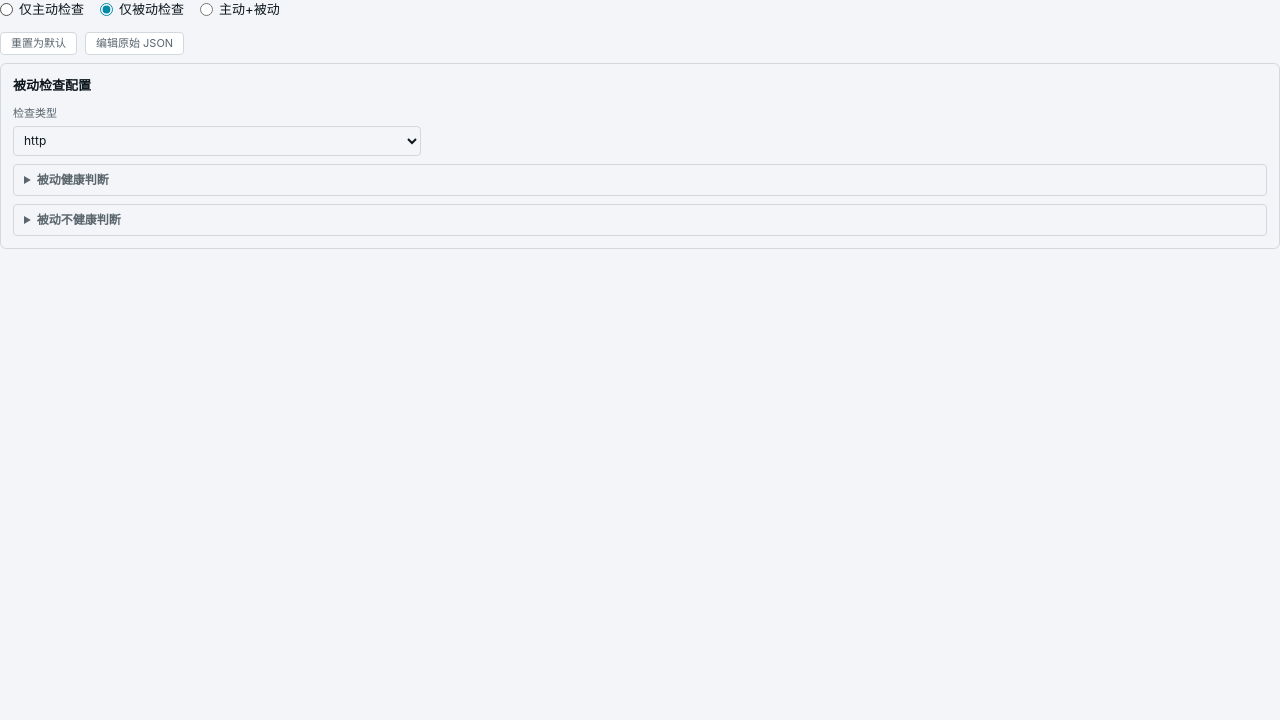
Scenario: HealthCheckForm.vue › passive mode › JSON editor dumps the form state of the current mode only
The image size is (1280, 720).
Click the button with class "json-edit-btn" at (135, 43), box [85, 32, 184, 55]
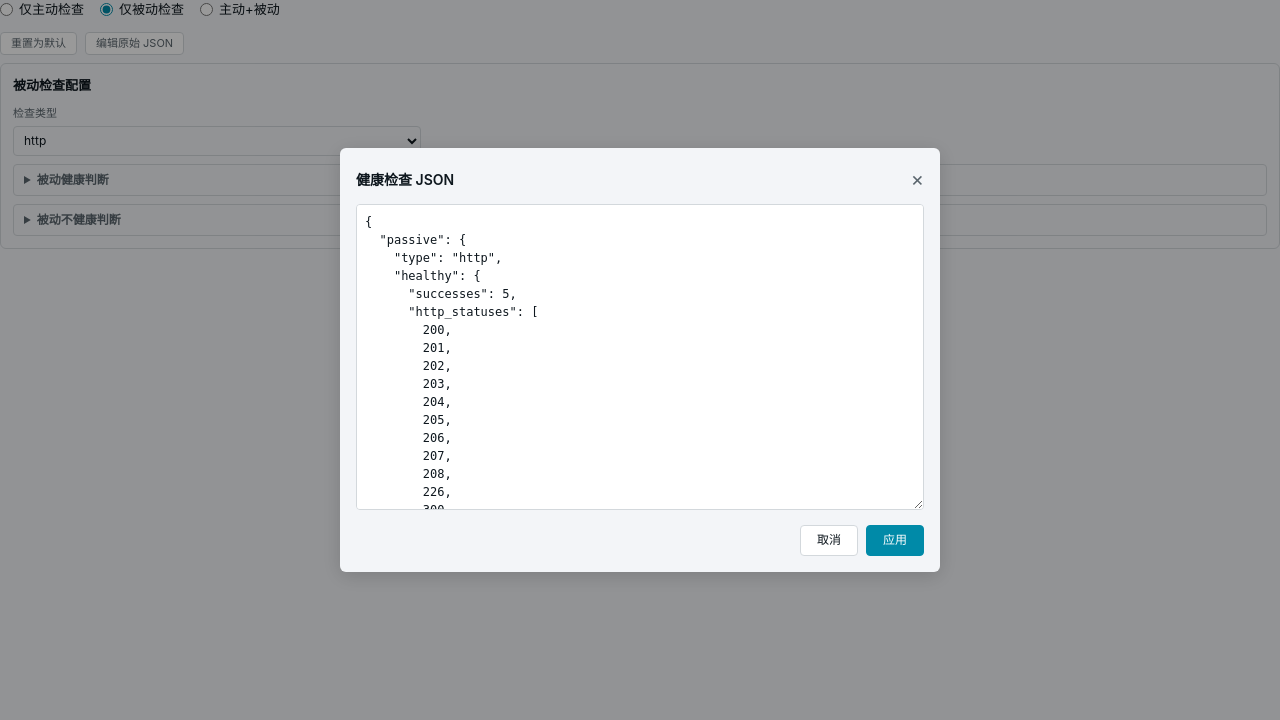
Check: the text box with class "json-textarea" is shown, box [356, 204, 924, 510]
